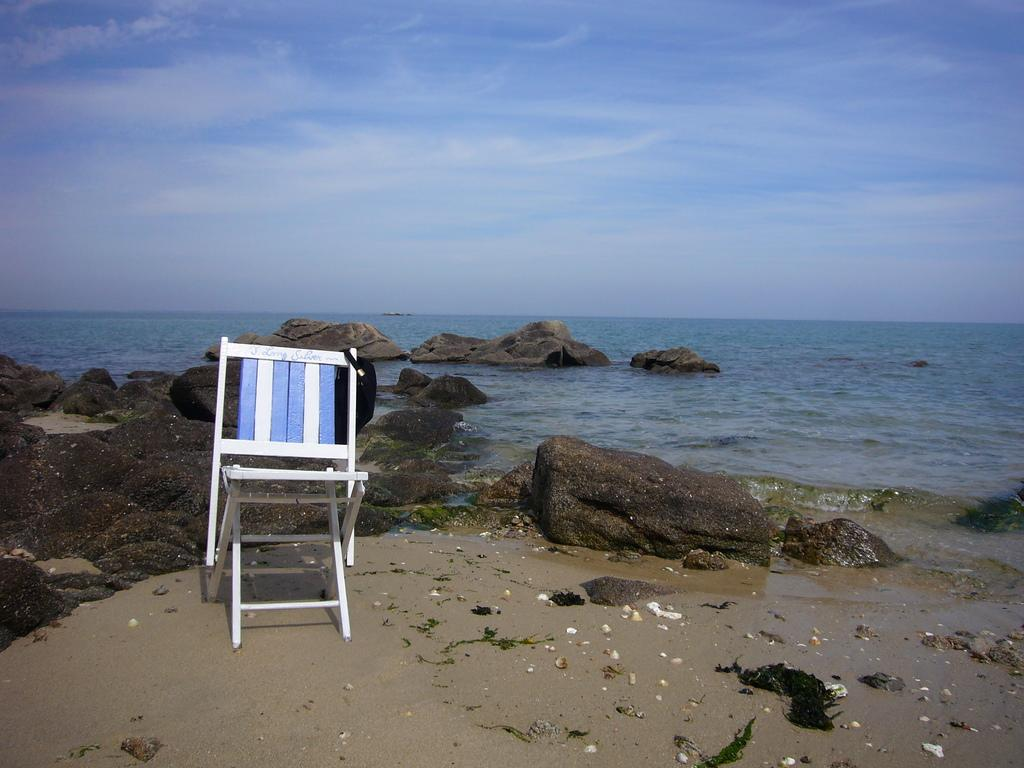Chair: (197, 372, 351, 654)
